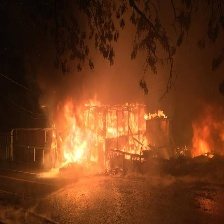fire: (35, 96, 167, 178), (178, 108, 221, 173)
smoke: (17, 7, 219, 96)
